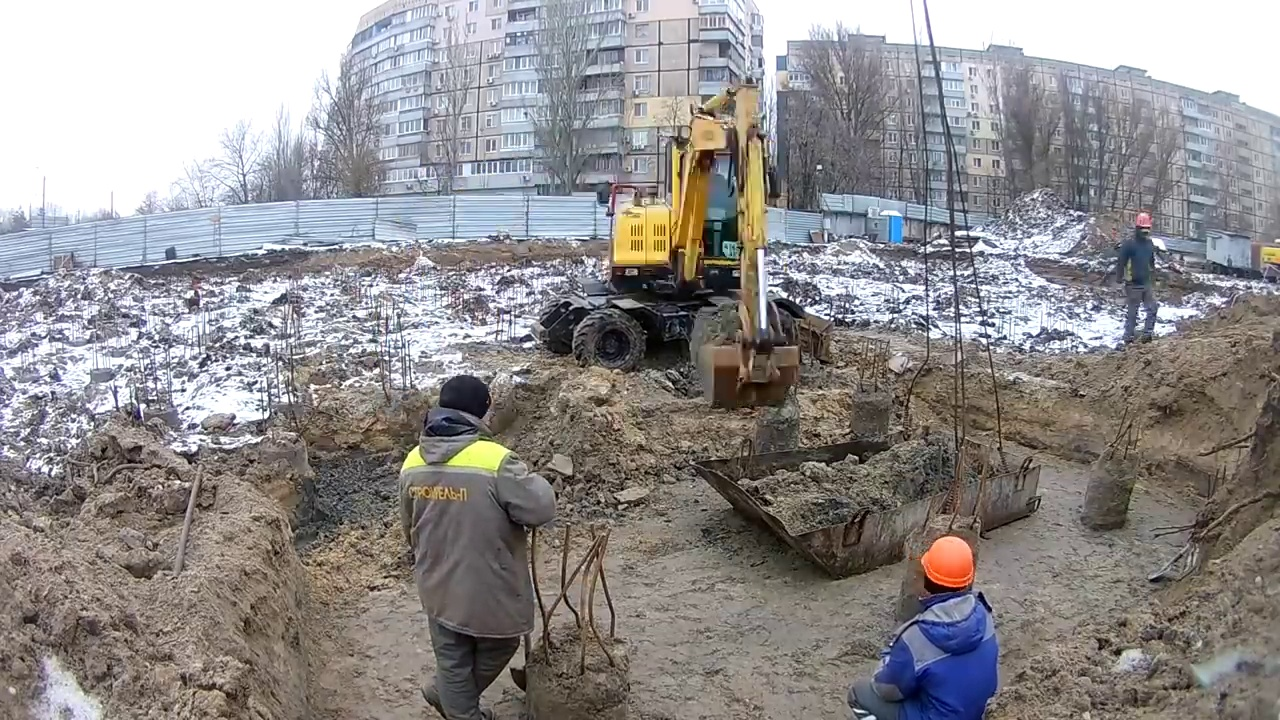helmet: (920, 547, 975, 588)
helmet-off: (440, 376, 491, 423)
helmet-on: (920, 542, 976, 599)
person: (398, 373, 560, 720), (847, 525, 998, 720), (1119, 212, 1165, 319)
